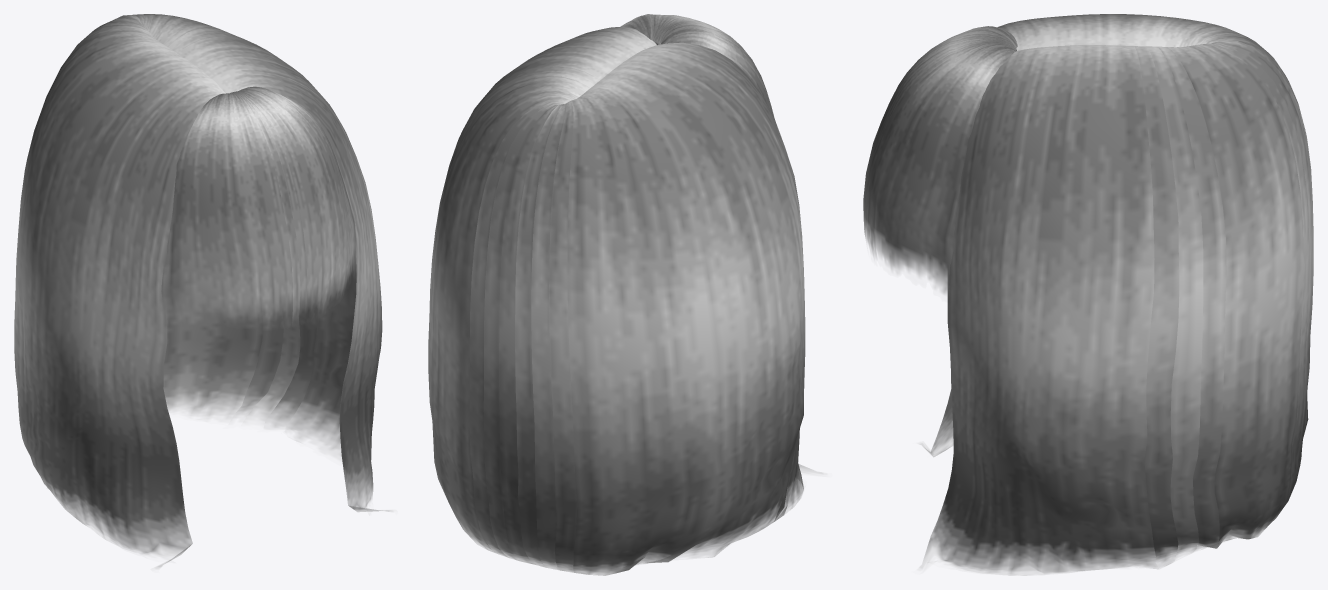
File: daz_hair_blunt_bob_bangs.glb
3 views of the same model, side by side, from view 1: azimuth 30°, elevation 25°; view 2: azimuth 150°, elevation 25°; view 3: azimuth 270°, elevation 25° (orthographic). The views are drawn at different scales.
Visible parts, largest first — view 1: daz_hair_blunt_bob_bangs; view 2: daz_hair_blunt_bob_bangs; view 3: daz_hair_blunt_bob_bangs.
Part boxes in pixels (x1,y1,x2,y2): daz_hair_blunt_bob_bangs: (14,14,393,568); daz_hair_blunt_bob_bangs: (428,14,826,575); daz_hair_blunt_bob_bangs: (863,14,1313,575).
Bounding box in the file's own units: 0.1892 × 0.2428 × 0.2105.
1 material, 1 textured.
